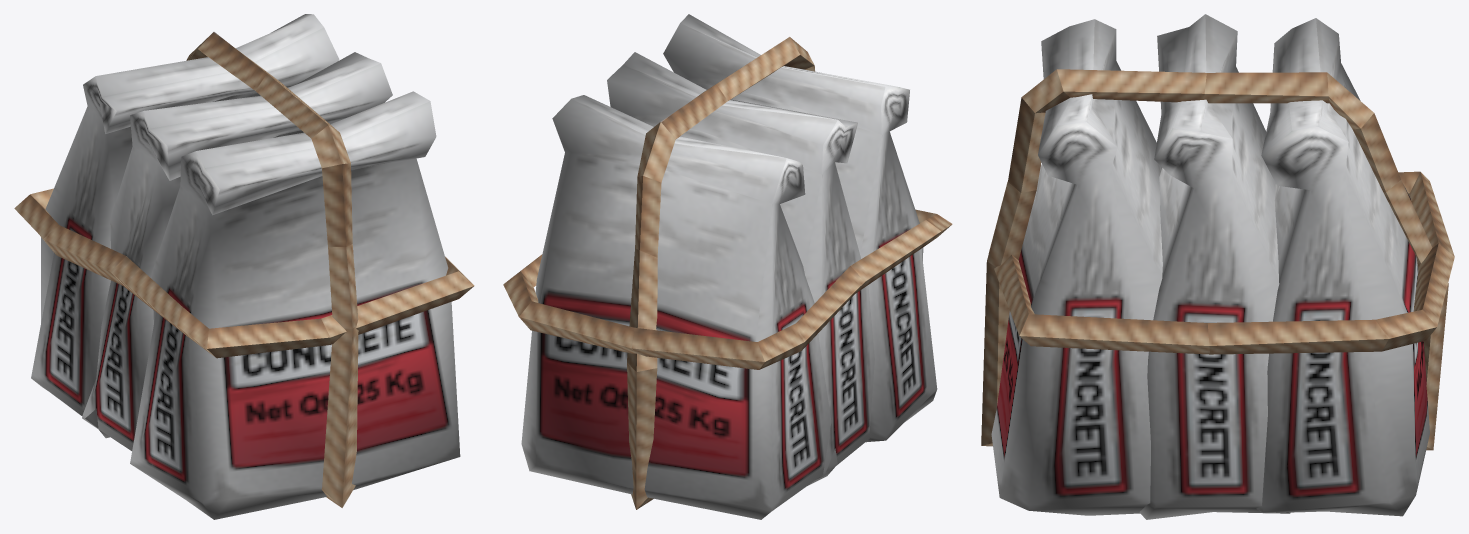
File: stack_of_concrete_powder.fbx
3 renders of one model, left to right at view 1: azimuth 30°, elevation 25°; view 2: azimuth 150°, elevation 25°; view 3: azimuth 270°, elevation 25°, orthographic. The views are drawn at different scales.
Parts seen in each view (by area): view 1: BagofConcretePowder; view 2: BagofConcretePowder; view 3: BagofConcretePowder.
Boxes of the visible parts, <box> form: BagofConcretePowder: <box>14,14,474,519</box>; BagofConcretePowder: <box>503,14,952,519</box>; BagofConcretePowder: <box>981,14,1454,519</box>.
Size of the model in its own units: 0.2676 by 0.307 by 0.3318.
